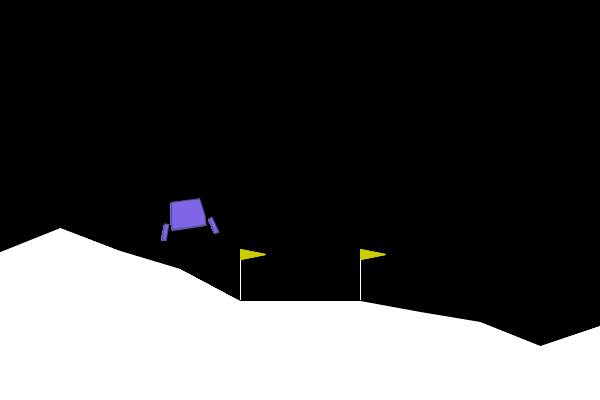lander: (155, 195, 220, 243)
